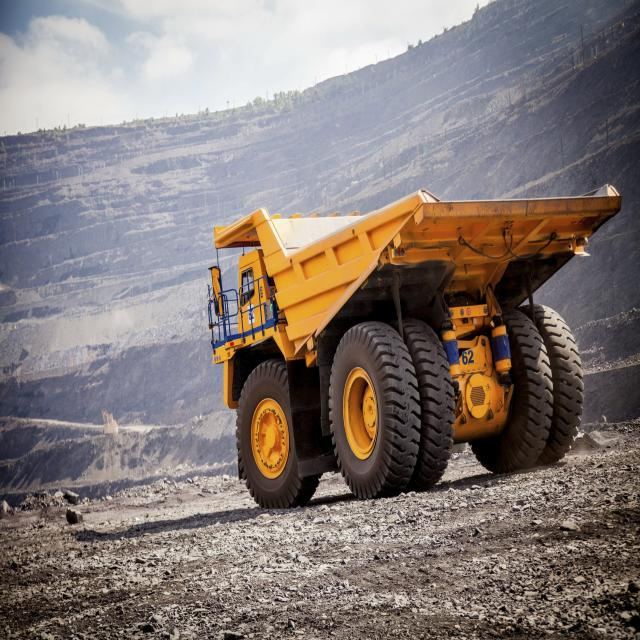dump_truck: (198, 173, 626, 520)
